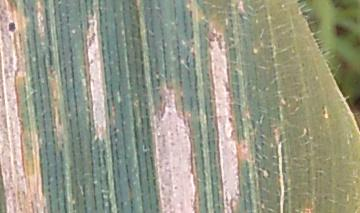tarspot: (6, 21, 17, 33)
